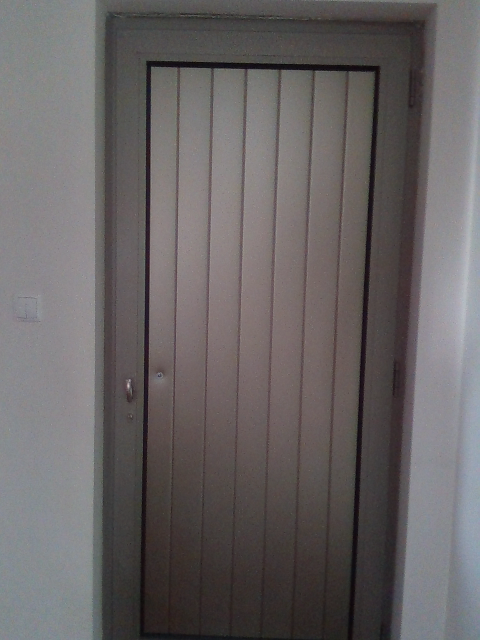closed: (89, 5, 438, 637)
